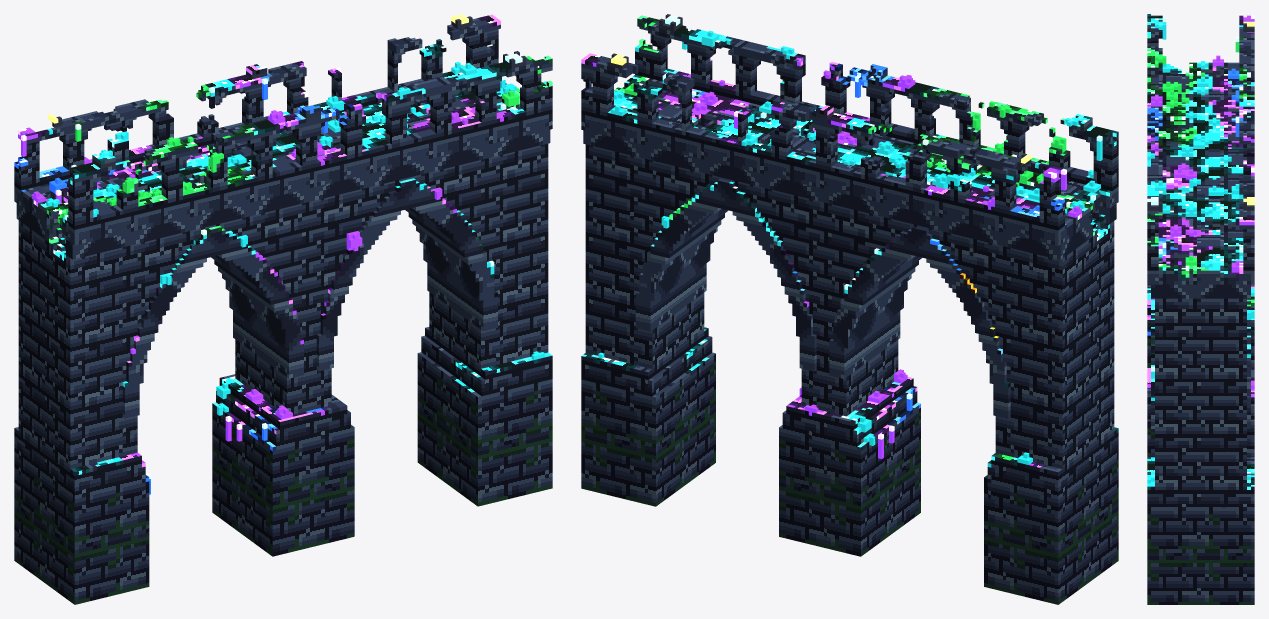
Rendered from viaduct.glb.
The picture shows the model from 3 angles, left to right: view 1: azimuth 30°, elevation 25°; view 2: azimuth 150°, elevation 25°; view 3: azimuth 270°, elevation 25°; orthographic projection. The views are drawn at different scales.
Parts seen in each view (by area): view 1: viaduct; view 2: viaduct; view 3: viaduct.
Part boxes in pixels (x1,y1,x2,y2): viaduct: [14, 14, 552, 604]; viaduct: [581, 14, 1118, 604]; viaduct: [1147, 14, 1254, 604].
Size of the model in its own units: 8 by 7 by 1.75.
Materials: 15 (15 with a texture image).
